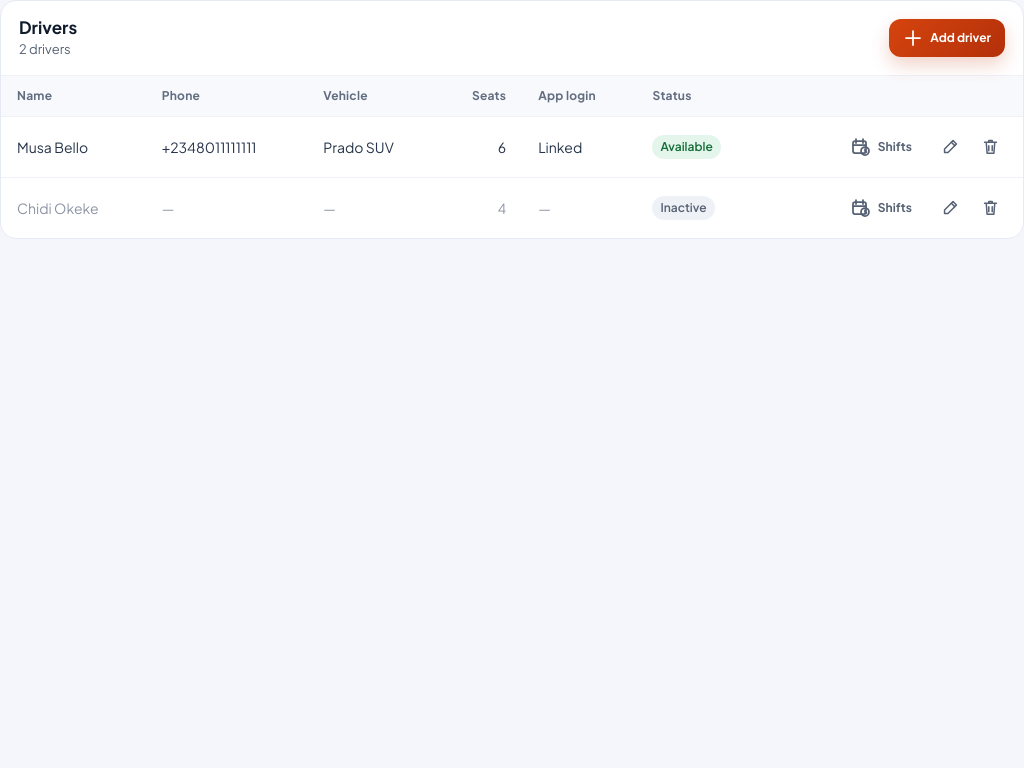
it: Driver shifts › lists shifts in the event time zone and marks ones that end the next day
Expected: the text "2 drivers" is shown, top-left (19, 39), bottom-right (77, 59)
Click the button "Shifts" in the row of "Musa Bello". click: click(881, 147)
box: top-left (836, 129), bottom-right (927, 165)
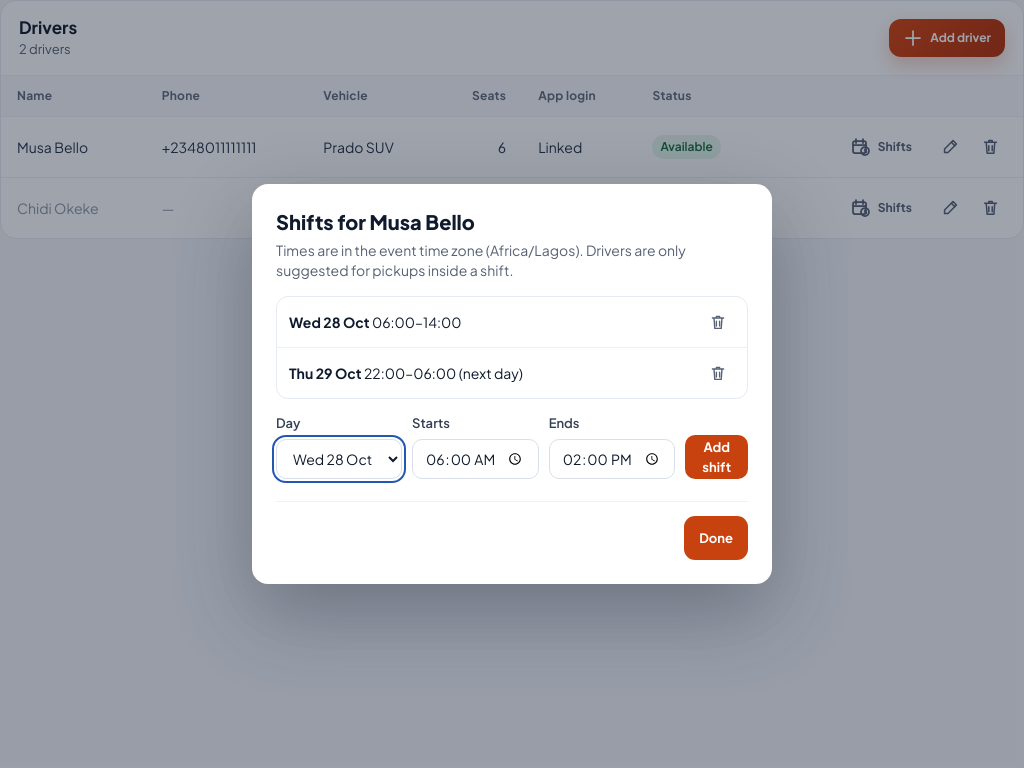
Now the text "Times are in the event time zone (Africa/Lagos)" is shown, box top-left (276, 240), bottom-right (748, 280)
Now the list item "Wed 28 Oct 06:00–14:00" is shown, box top-left (277, 297), bottom-right (747, 347)
Now the list item "Thu 29 Oct 22:00–06:00 (next day)" is shown, box top-left (277, 347), bottom-right (747, 398)
